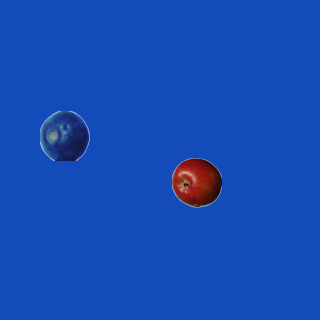Apple Braeburn: (171, 157, 221, 207)
Huckleberry: (39, 110, 89, 160)
